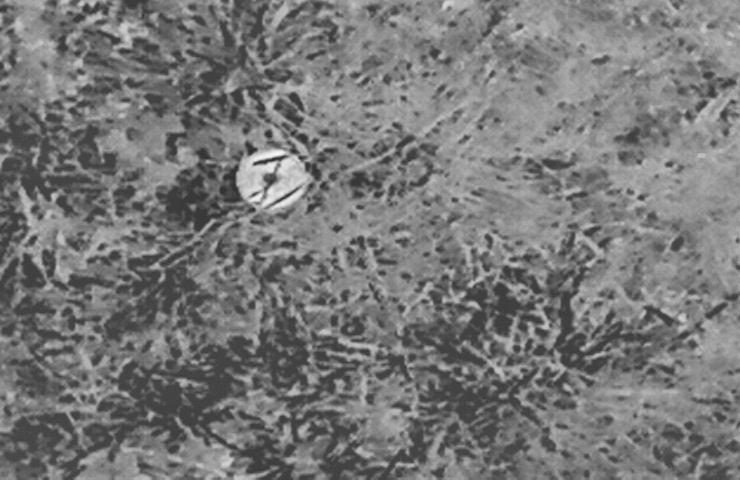landmines: (234, 144, 315, 216)
